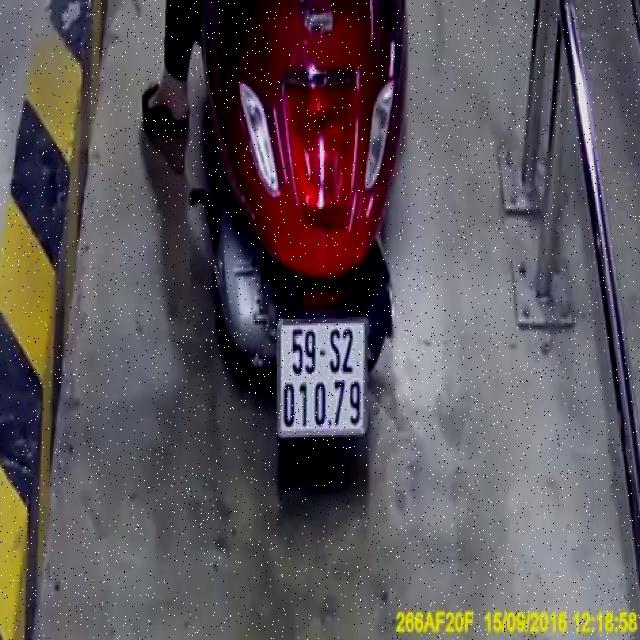0: (312, 381, 325, 426), (282, 381, 294, 427)
1: (295, 380, 310, 428)
2: (342, 326, 355, 373)
5: (291, 327, 304, 375)
7: (332, 380, 345, 427)
9: (304, 328, 318, 376), (349, 380, 361, 425)
S: (328, 327, 341, 377)
